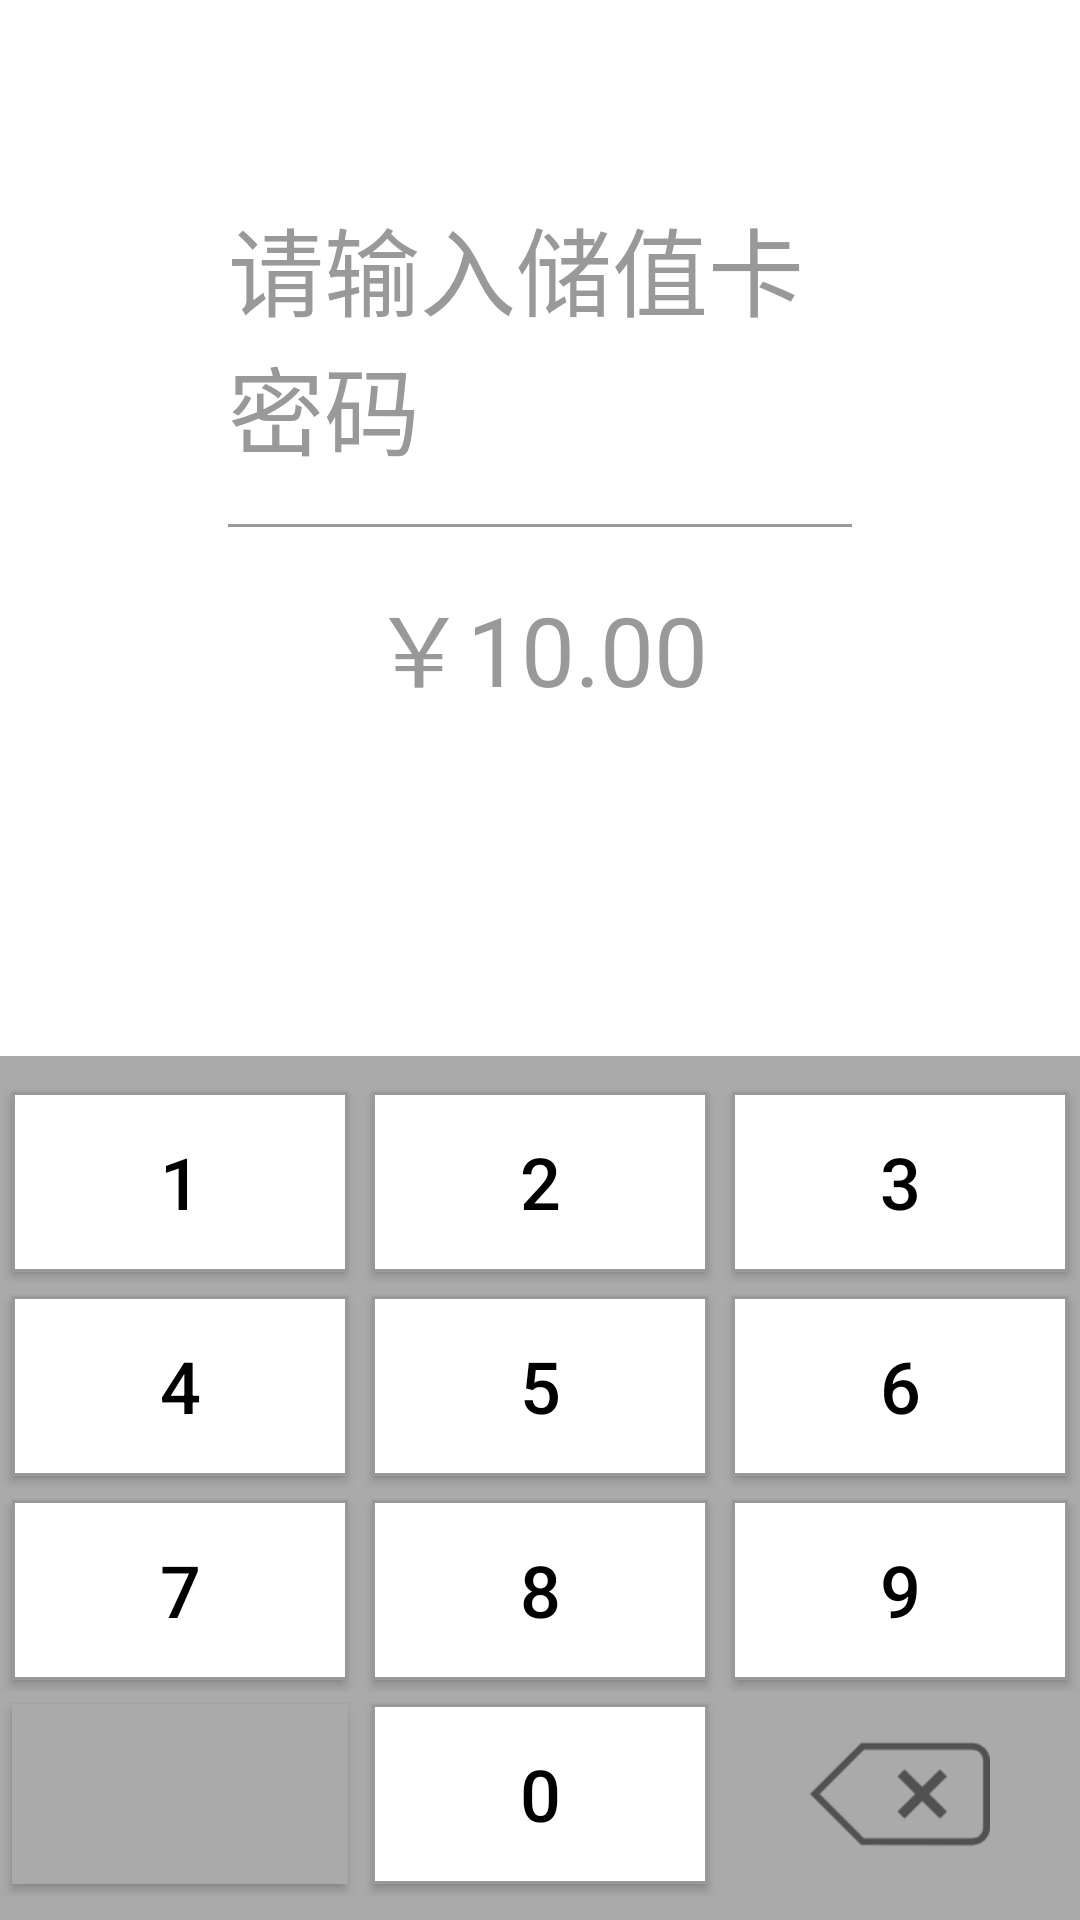

Point at icon controls on the screen. Image size 1080px×1920px, points as (x,y).
num back: (900,1794)
